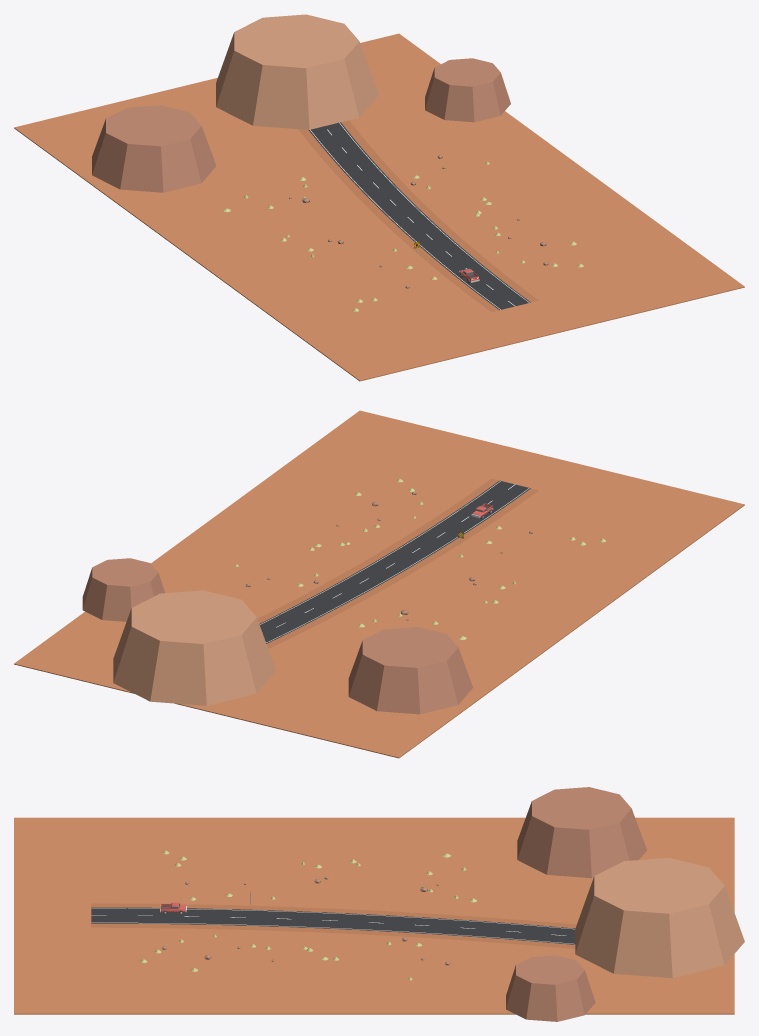
File: roo-road.glb
The picture shows the model from 3 angles, top to bottom: view 1: azimuth 30°, elevation 25°; view 2: azimuth 150°, elevation 25°; view 3: azimuth 270°, elevation 25°; orthographic projection. The views are drawn at different scales.
Visible parts, largest first — view 1: ground, mesa1, mesa0, road, mesa2, shoulderR, shoulderL; view 2: ground, mesa1, mesa0, road, mesa2, shoulderR, shoulderL; view 3: ground, mesa1, mesa0, road, mesa2, shoulderL, shoulderR, edgeL, edgeR.
Boxes of the visible parts, bbox=[...] form: ground: bbox=[14, 33, 744, 381]; mesa1: bbox=[216, 14, 378, 129]; mesa0: bbox=[92, 105, 216, 192]; road: bbox=[308, 122, 530, 310]; mesa2: bbox=[425, 58, 510, 122]; shoulderR: bbox=[298, 129, 498, 312]; shoulderL: bbox=[341, 120, 538, 302]; ground: bbox=[14, 410, 744, 758]; mesa1: bbox=[113, 590, 275, 705]; mesa0: bbox=[348, 627, 473, 714]; road: bbox=[259, 480, 530, 643]; mesa2: bbox=[82, 558, 164, 621]; shoulderR: bbox=[266, 488, 538, 648]; shoulderL: bbox=[257, 478, 498, 623]; ground: bbox=[14, 817, 734, 1014]; mesa1: bbox=[575, 858, 744, 978]; mesa0: bbox=[517, 787, 646, 878]; road: bbox=[91, 907, 575, 944]; mesa2: bbox=[506, 955, 595, 1021]; shoulderL: bbox=[91, 923, 575, 948]; shoulderR: bbox=[91, 903, 576, 928]; edgeL: bbox=[91, 922, 574, 944]; edgeR: bbox=[91, 908, 574, 929].
Bounding box in the file's own units: 93.86 × 12.34 × 142.
17 materials, 2 textured.
